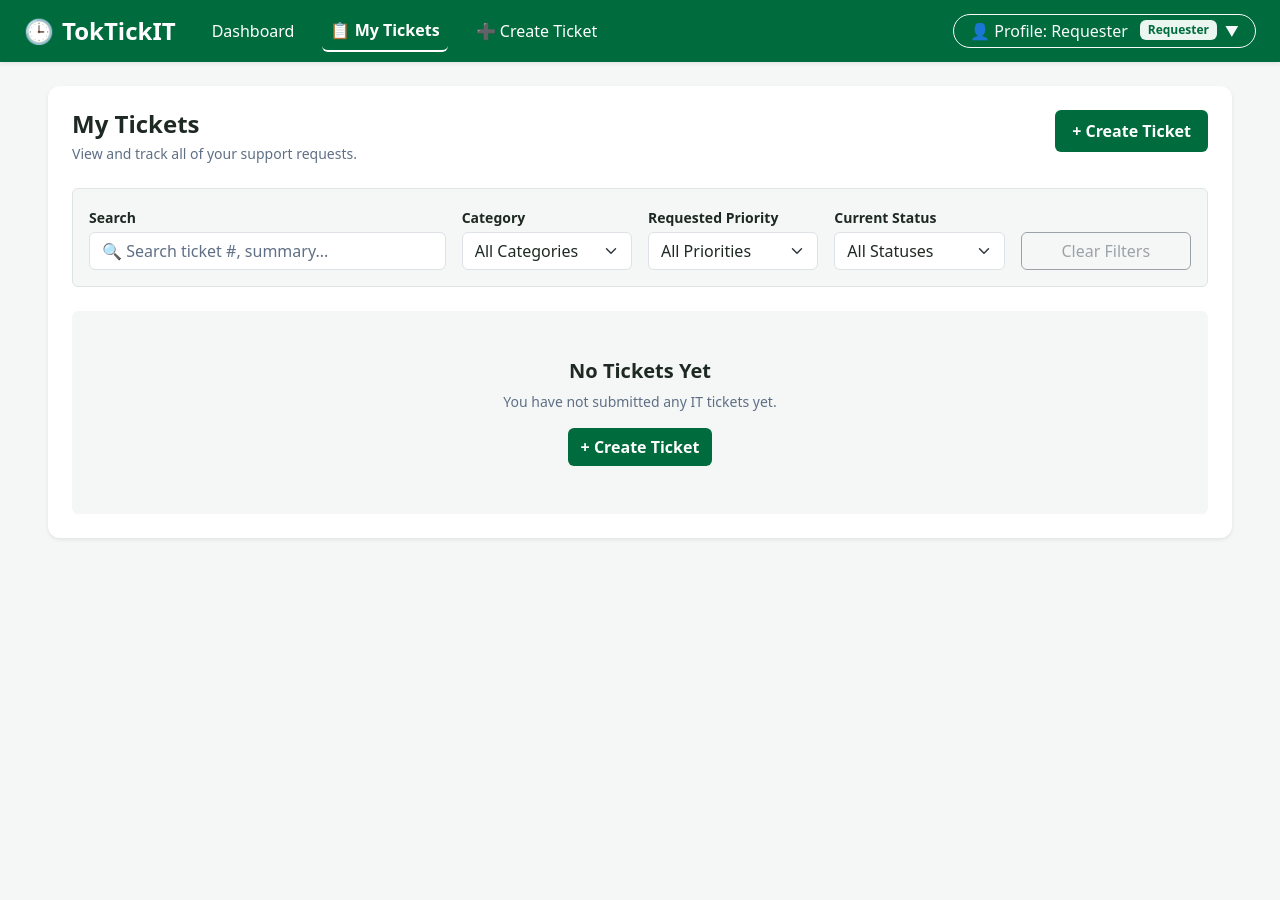
Test: Requester dashboard application integration › applies open drill-down then ordinary My Tickets clears it
This screenshot has width=1280, height=900.
Expected: the heading "No Tickets Yet" is shown, [569,357,711,384]
Click the button "Dashboard": (253, 31) [204,10,302,52]
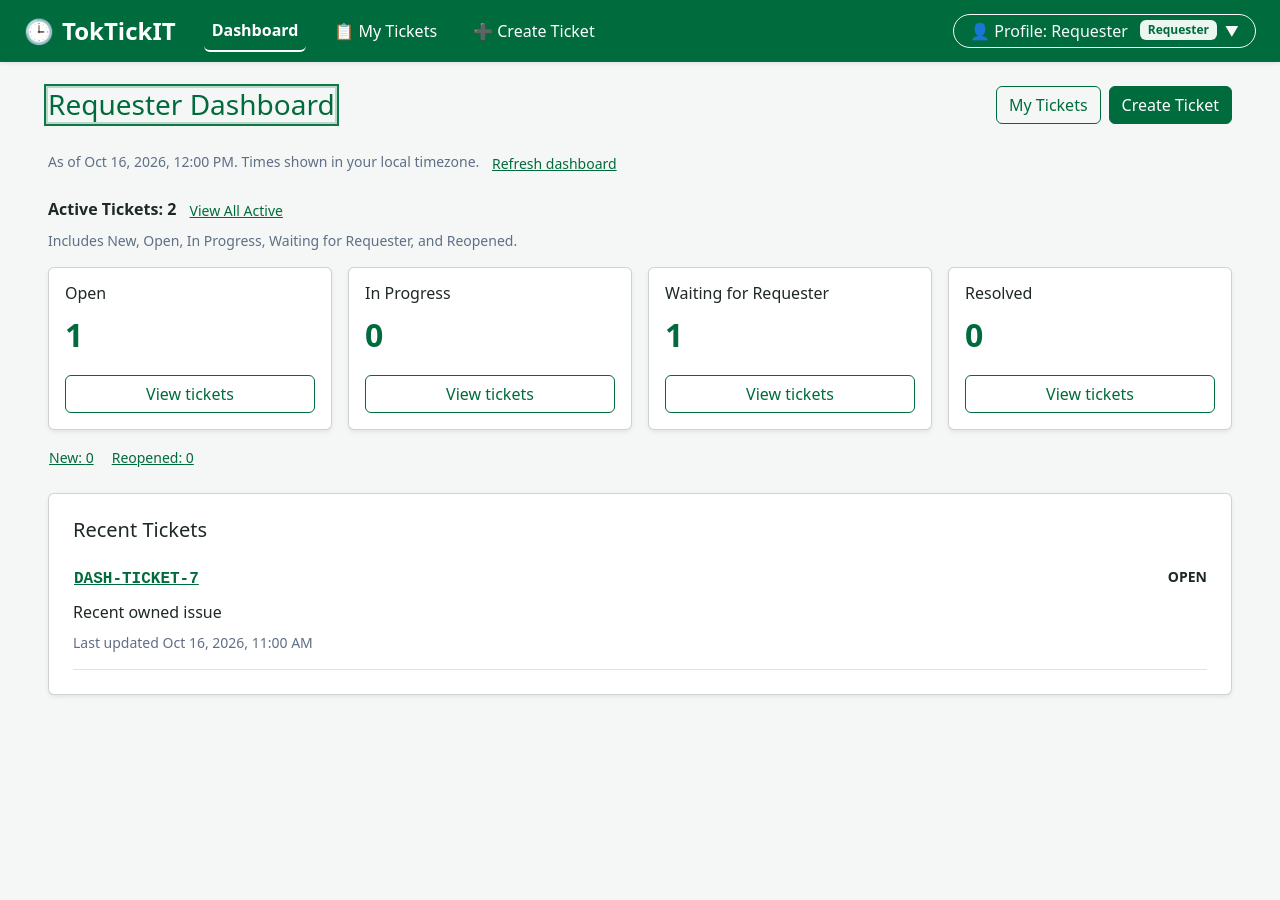
Click the 1st button "View tickets": (190, 394) [65,375,315,413]
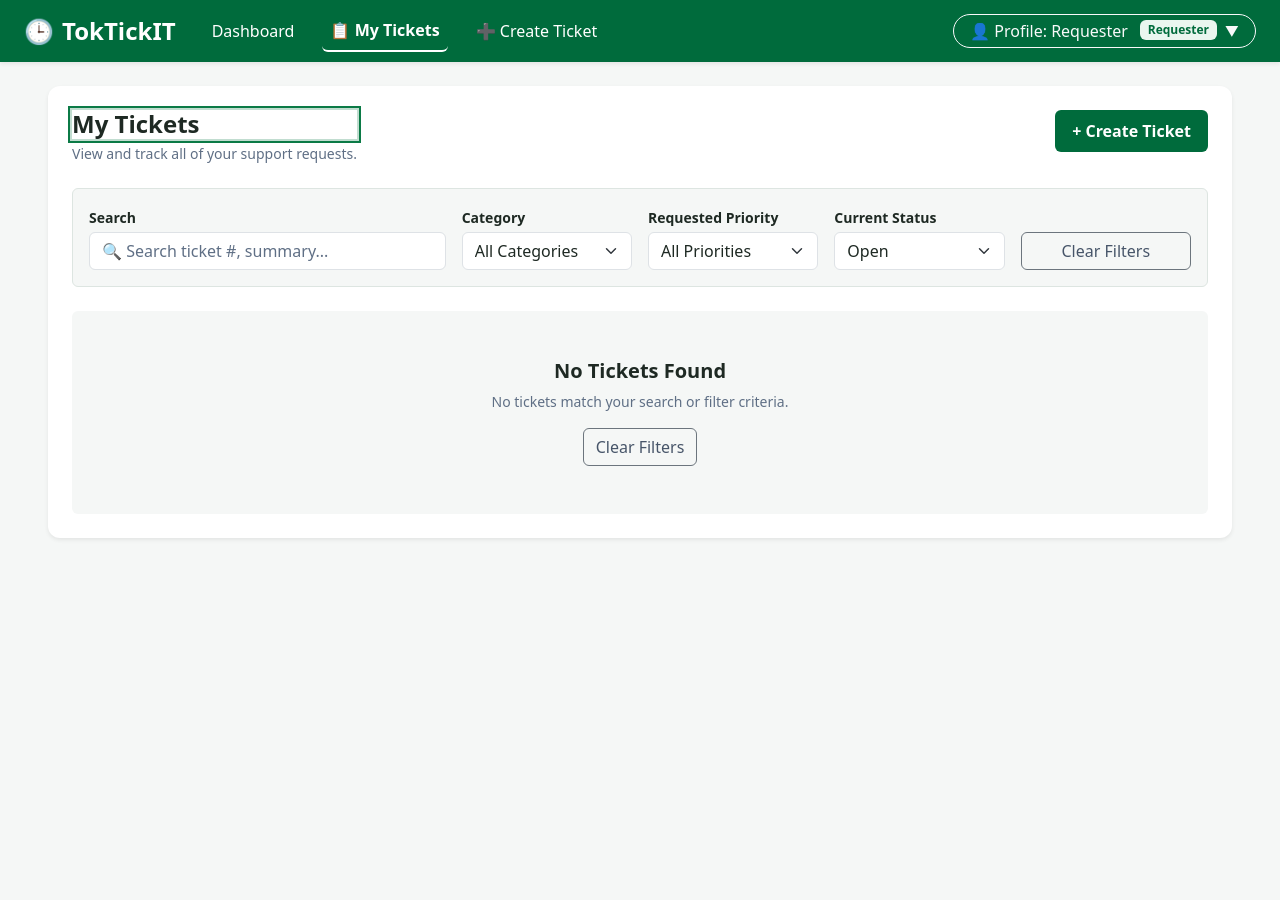
Expected: the dropdown labelled "Current Status" shows "Open", [834,232,1005,270]
Click the button "📋 My Tickets": (385, 31) [322,10,448,52]
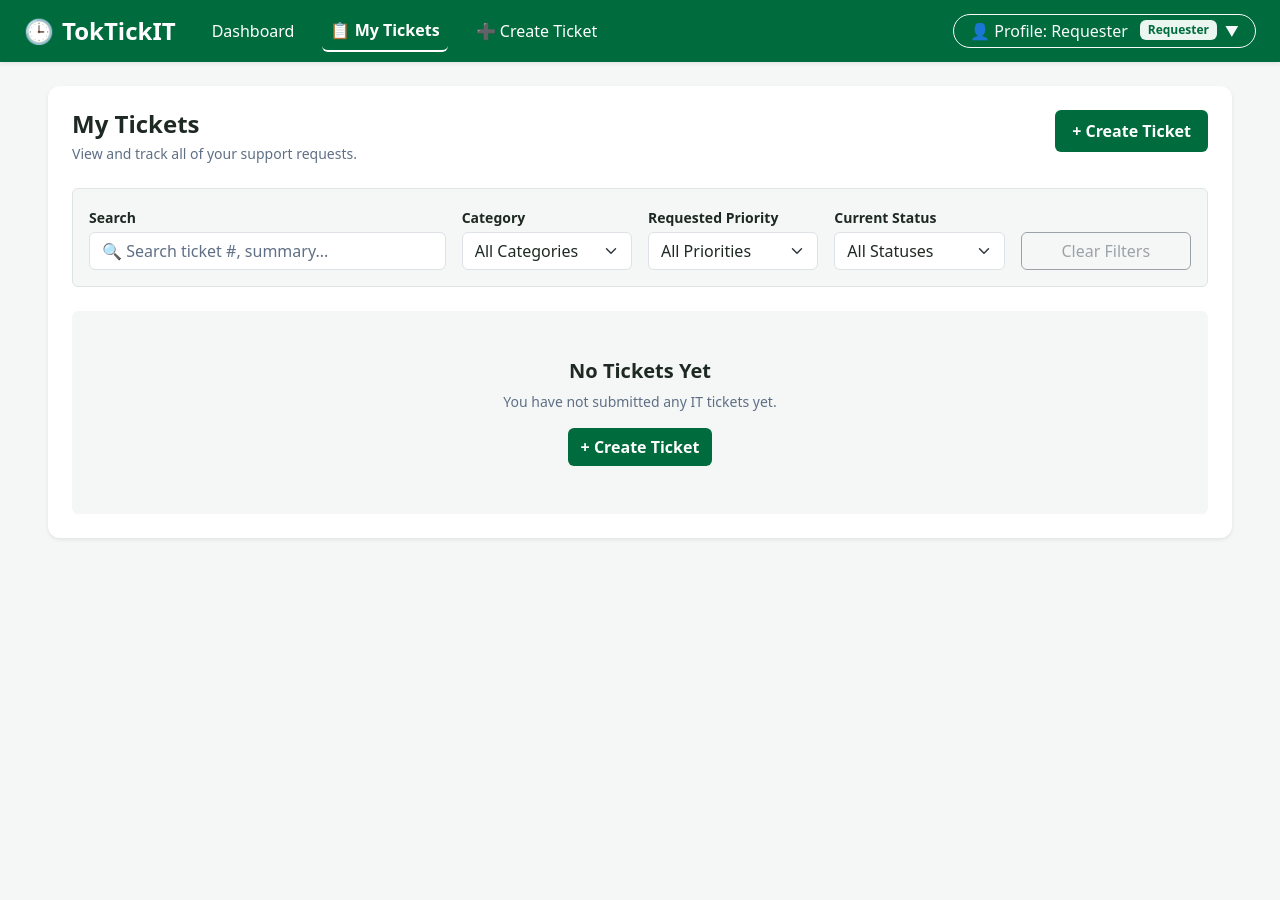
Expected: the dropdown labelled "Current Status" shows "All Statuses", [834,232,1005,270]
